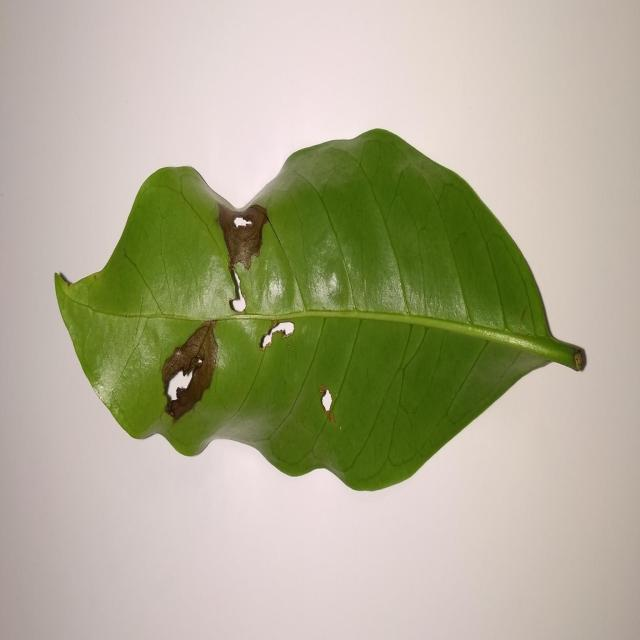Enfermedad-Antracnosis: (53, 128, 588, 494)
